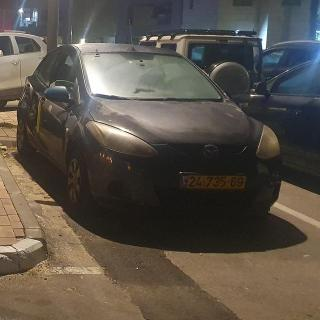LicensePlate: (187, 175, 247, 189)
